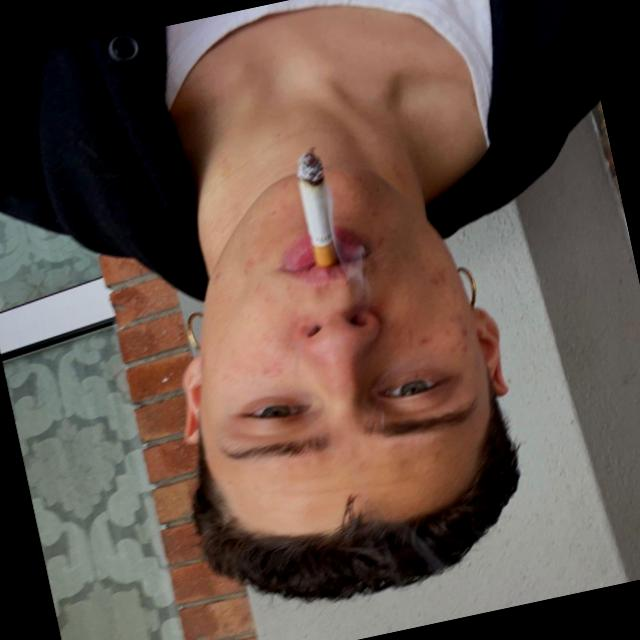smoke: (248, 130, 364, 284)
